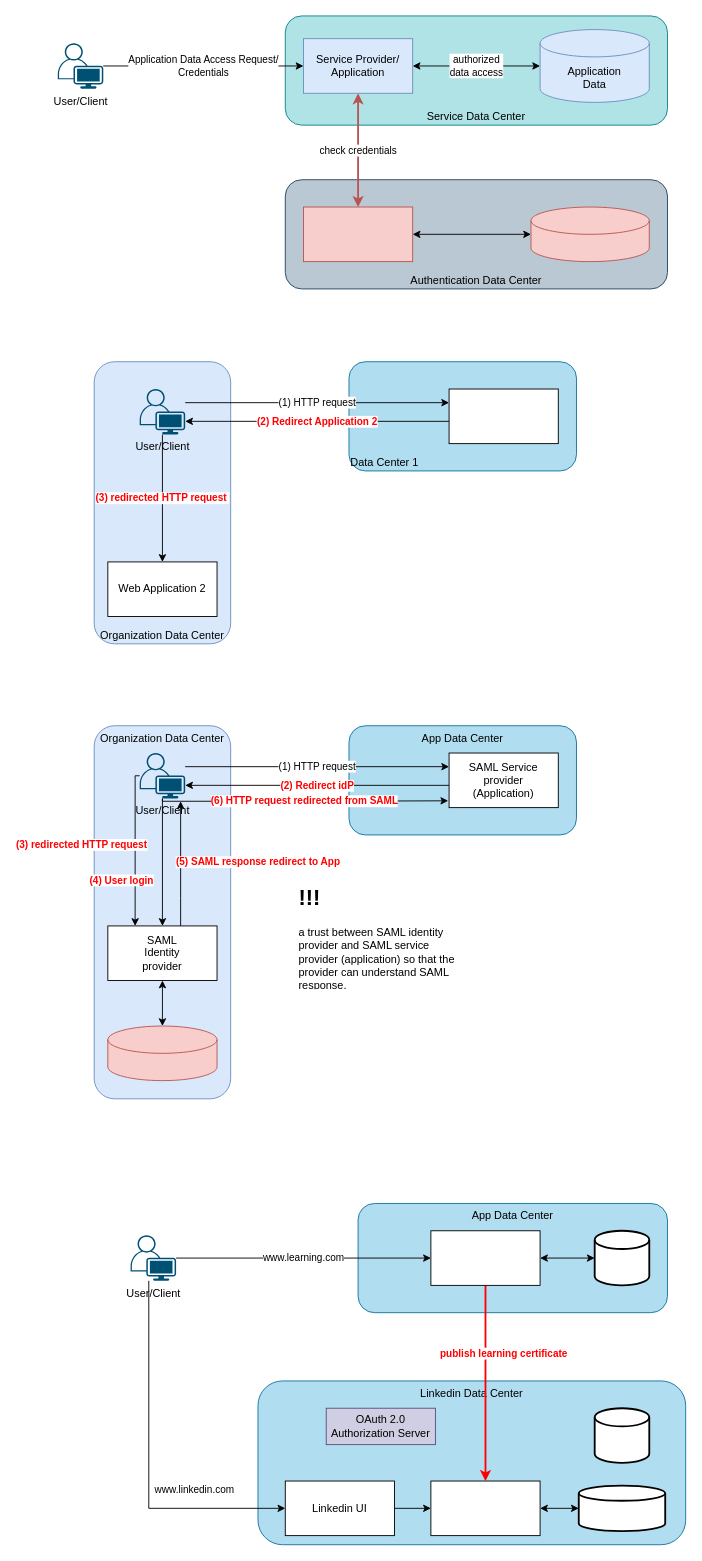
This 702x1561 diagram has some shape labels left out. Here are the shapes that lost their labels. From the top down, the centre of each, then its label:
At point (358, 234): "Identity Provider".
At point (589, 234): "Identity Data".
At point (503, 416): "Web Application 1".
At point (162, 1053): "LDAP db".
At point (485, 1257): "Learning App".
At point (621, 1257): "Learning DB".
At point (621, 1435): "Linkedin Identity db".
At point (485, 1508): "Linkedin API".
At point (621, 1508): "Linkedin app db".
